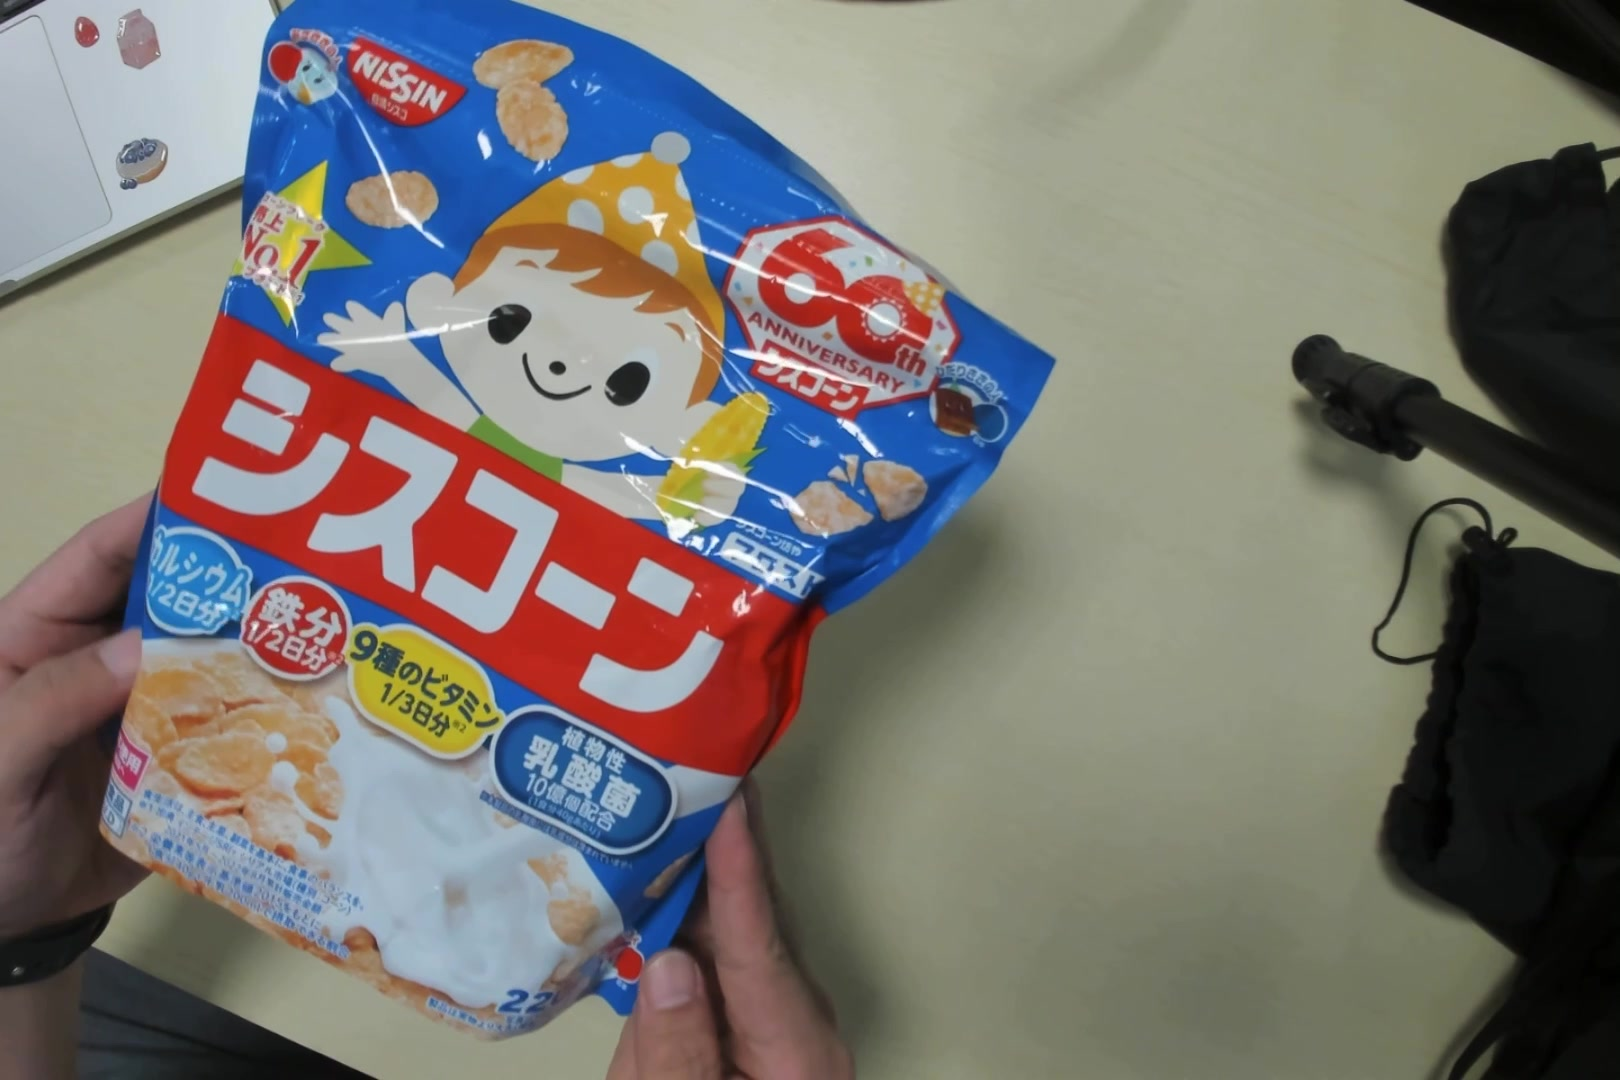BreakfastCereals_200-299g_NonHalal_NonHealthy: (115, 25, 1016, 1026)
